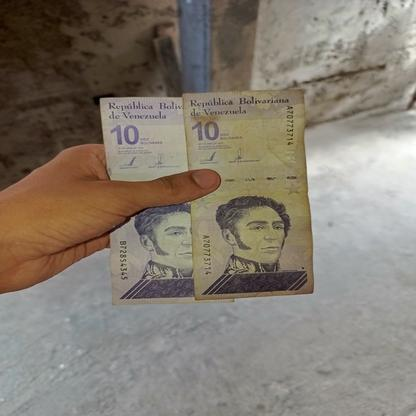ten-front-vef: (182, 87, 314, 300), (98, 96, 193, 306)
